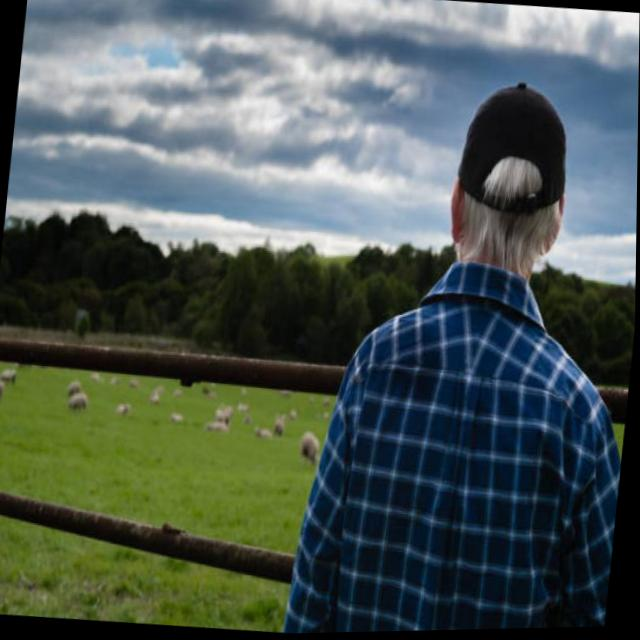no helmet: (412, 54, 593, 316)
